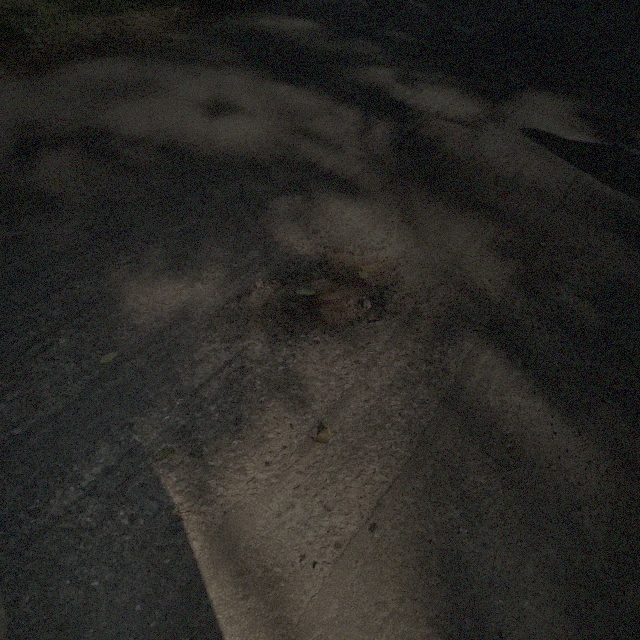pothole: (204, 243, 402, 349)
